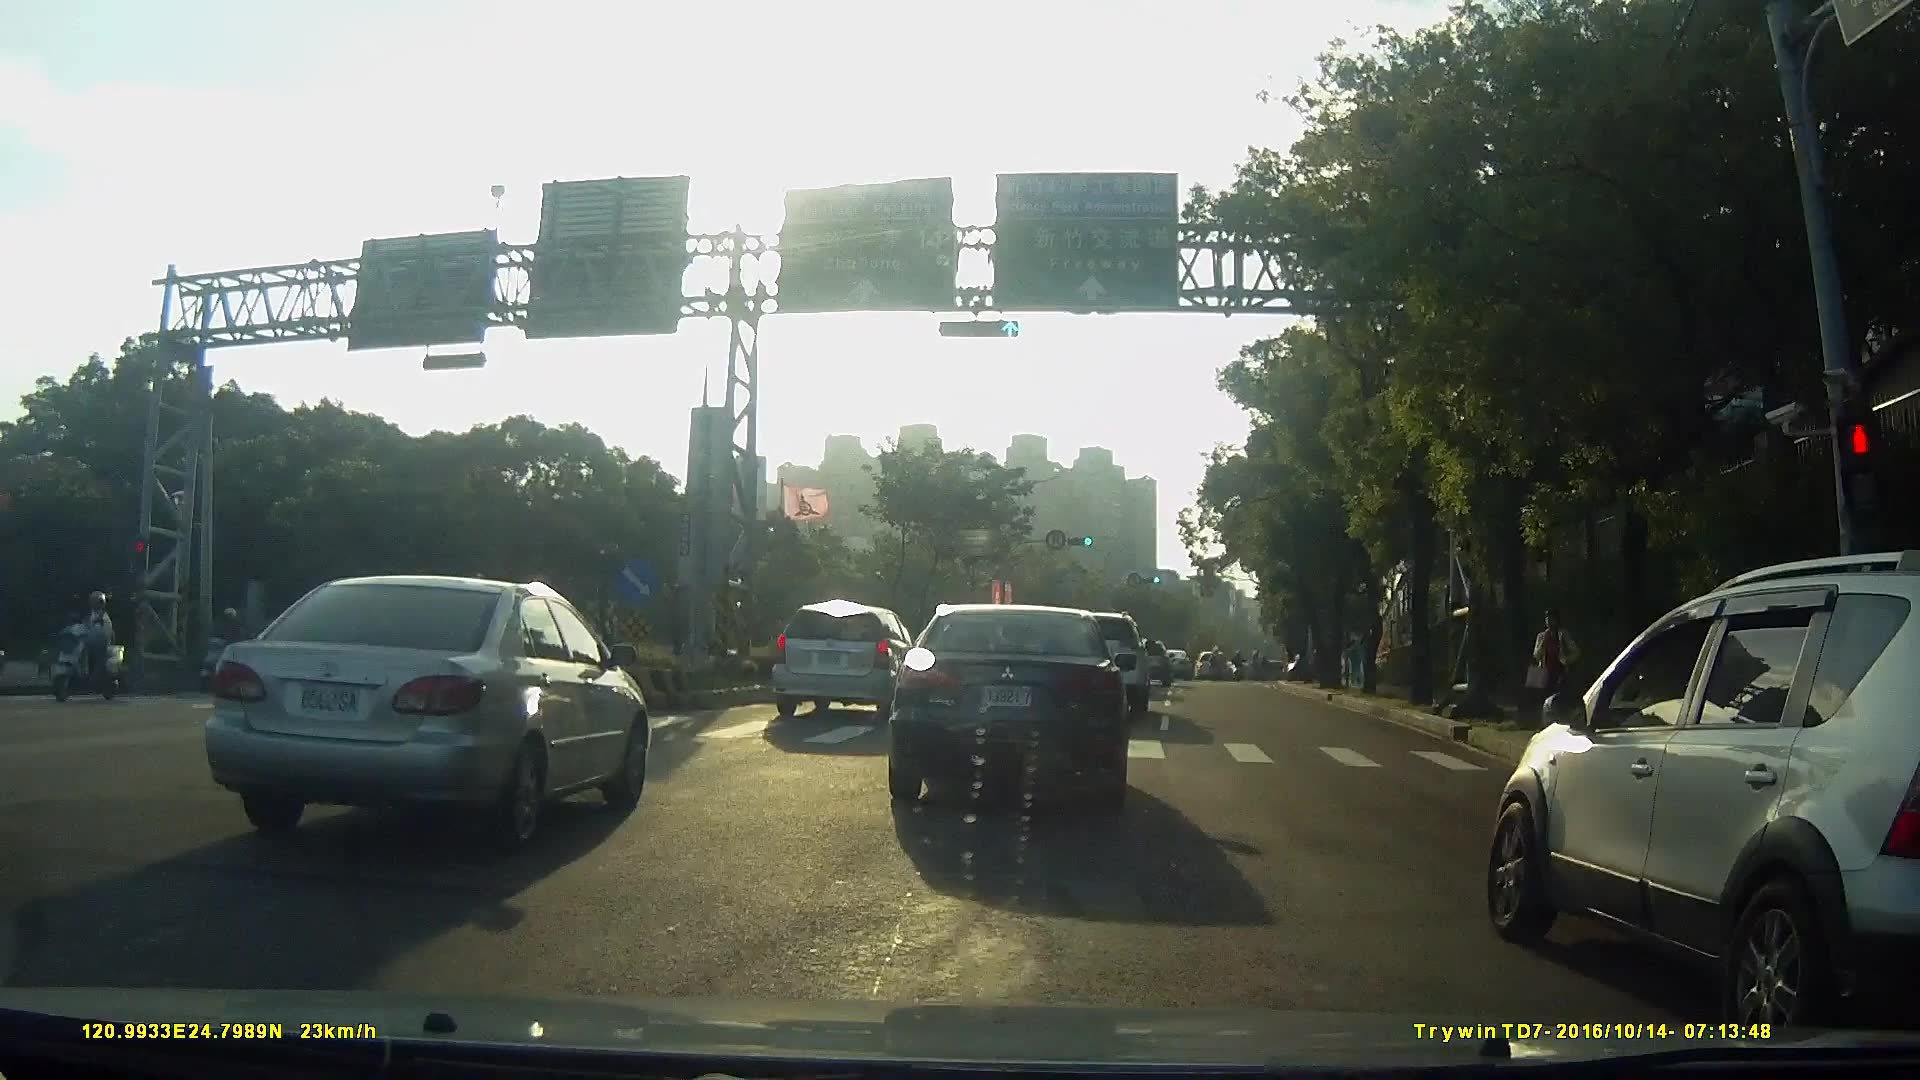pedestrian: (1524, 604, 1586, 752)
rider: (53, 593, 128, 701), (195, 605, 254, 693)
vehicle: (1454, 553, 1920, 1043), (187, 567, 667, 850), (872, 600, 1146, 814), (759, 597, 912, 718), (1184, 644, 1219, 676), (1151, 645, 1185, 677)
